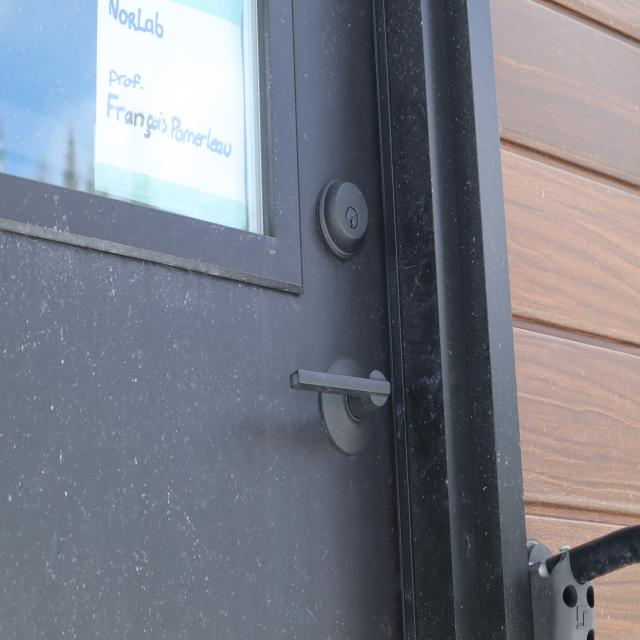door-handle: (290, 358, 390, 456)
